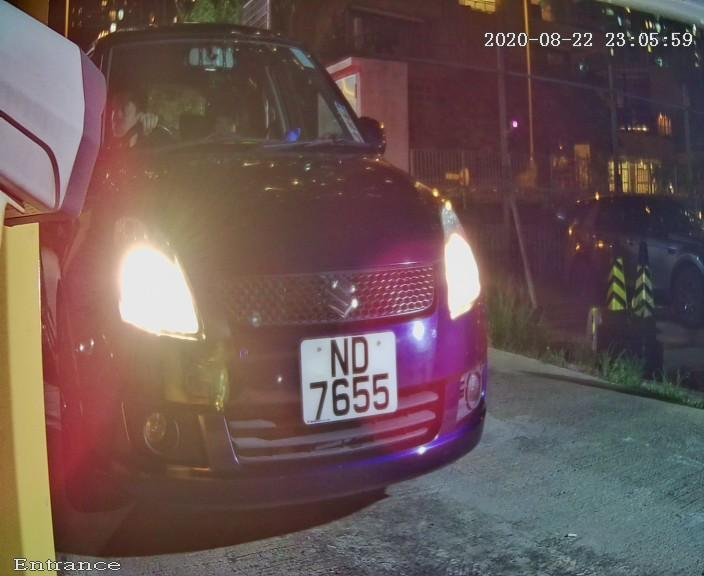Car: (1, 6, 557, 556)
License Plate: (268, 315, 418, 456)
